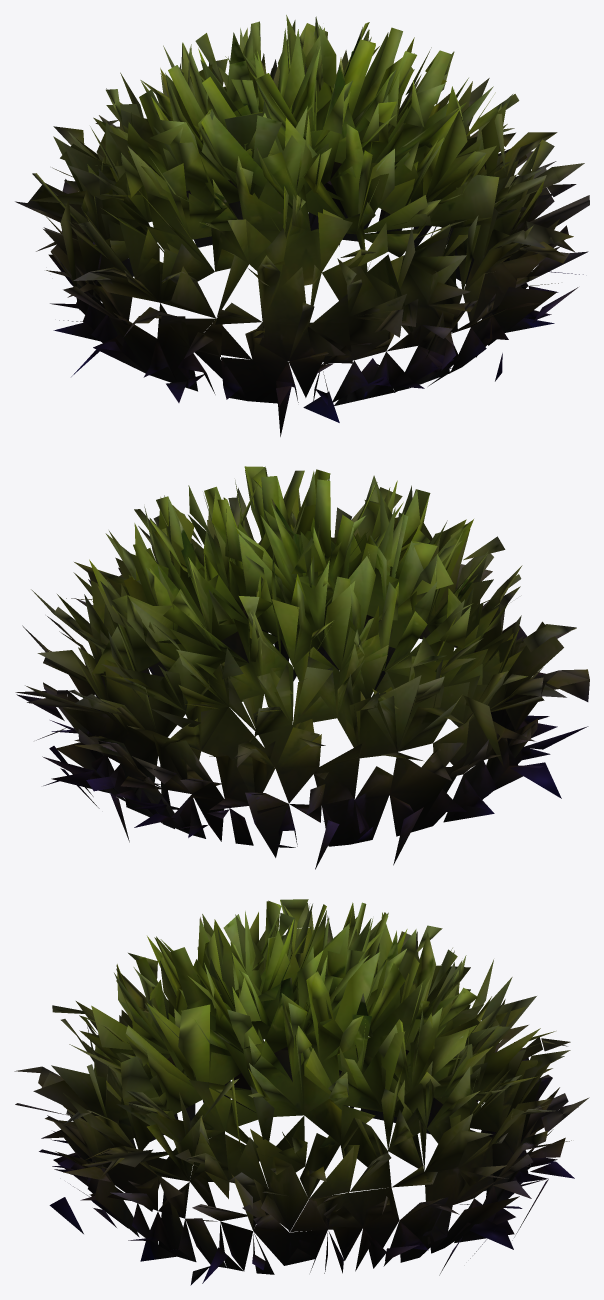
The model's file is vegetation.short-grass-01.lod1.glb.
The picture shows the model from 3 angles, top to bottom: view 1: azimuth 30°, elevation 25°; view 2: azimuth 150°, elevation 25°; view 3: azimuth 270°, elevation 25°; orthographic projection.
Parts seen in each view (by area): view 1: vegetation.short-grass-01_LOD1_00; view 2: vegetation.short-grass-01_LOD1_00; view 3: vegetation.short-grass-01_LOD1_00.
Part boxes in pixels (x1,y1,x2,y2): vegetation.short-grass-01_LOD1_00: (15,15,589,436); vegetation.short-grass-01_LOD1_00: (15,466,589,869); vegetation.short-grass-01_LOD1_00: (14,899,589,1285).
Size of the model in its own units: 0.4975 by 0.2704 by 0.502.
Materials: 1 (1 with a texture image).
